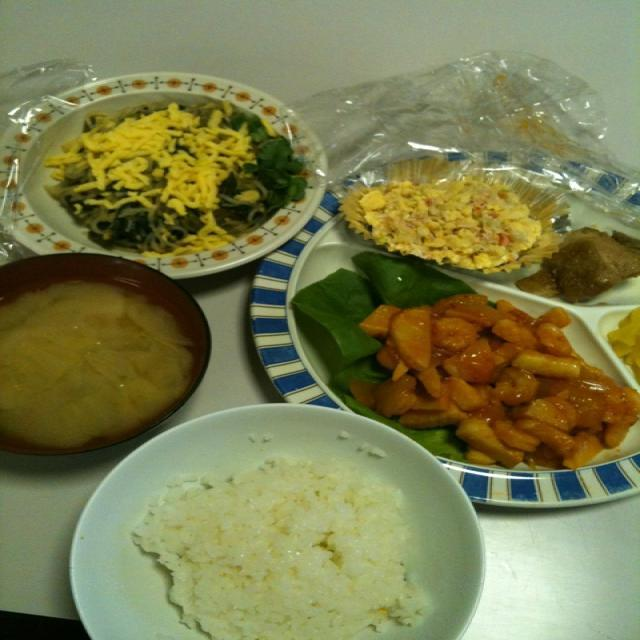Rice: (140, 453, 431, 640)
